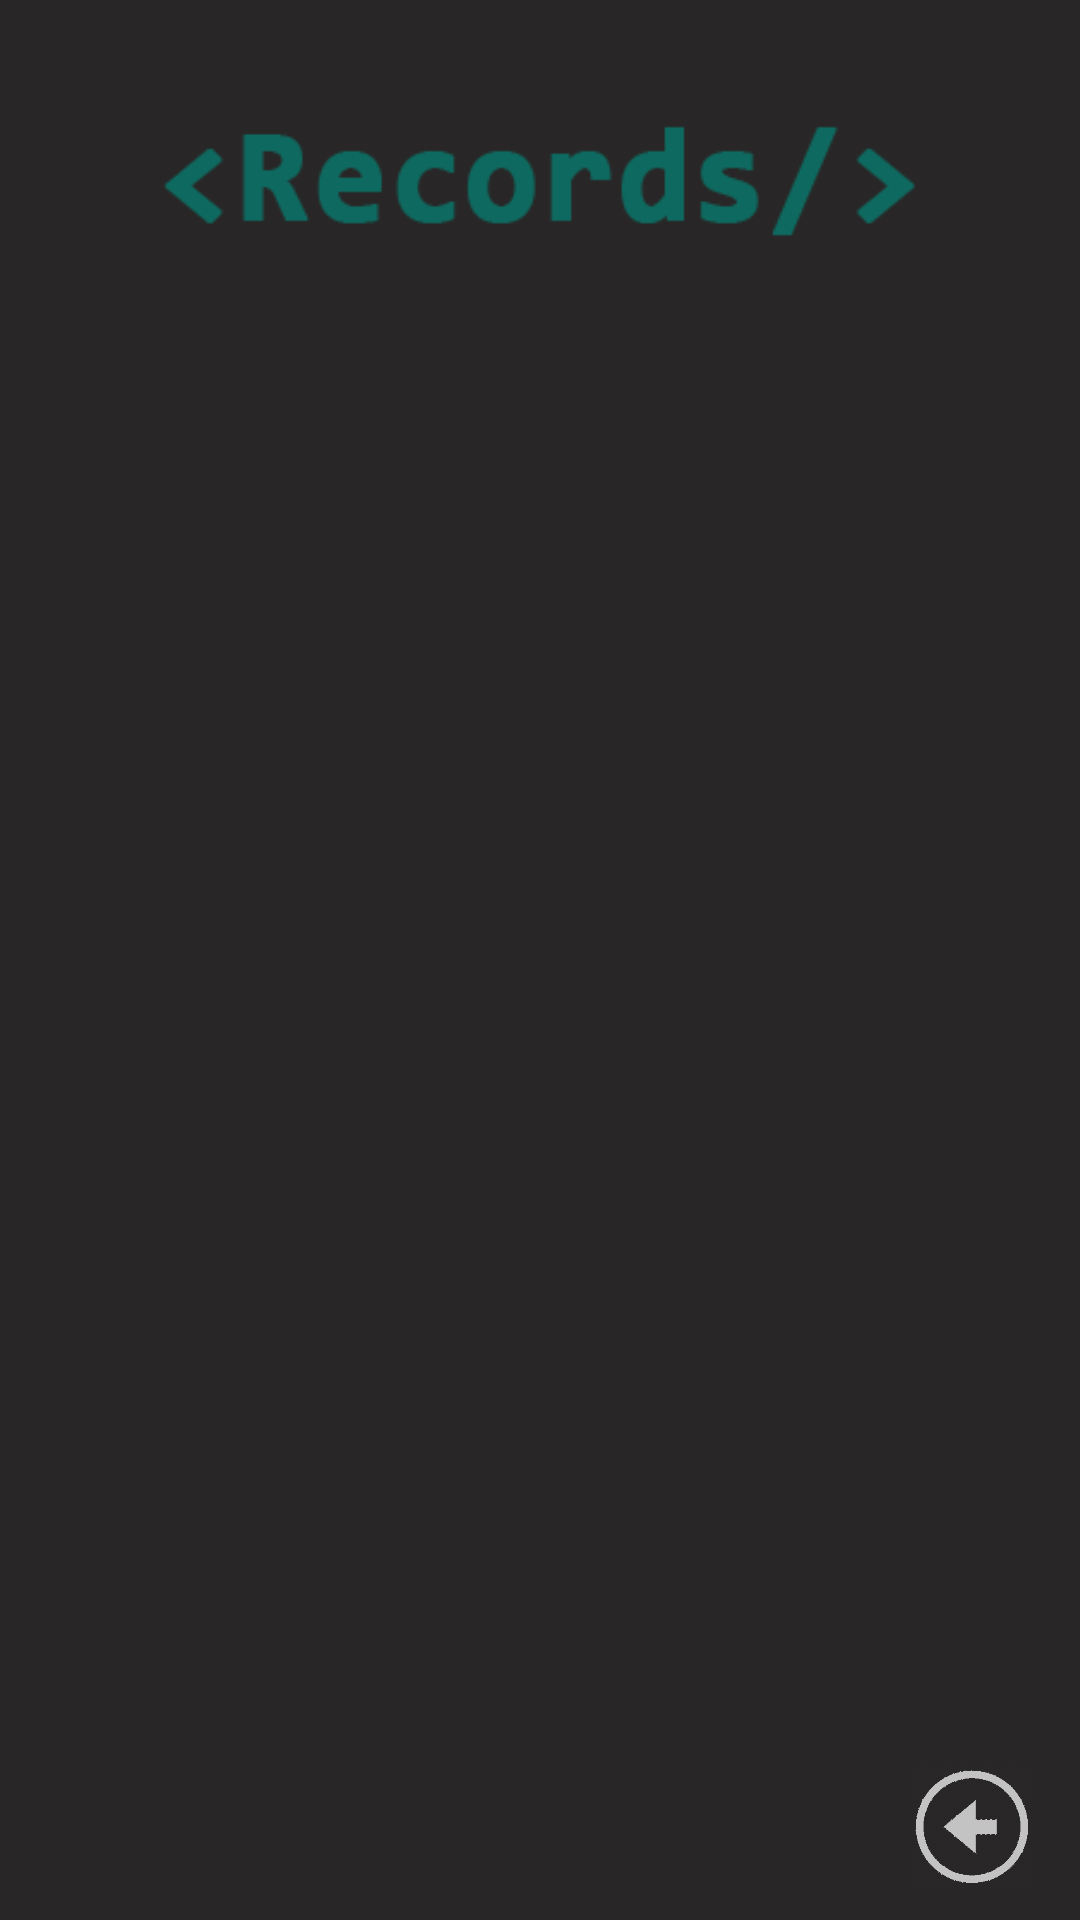

Point at icon controls on the screen. Image size 1080*1920, points as point (x, y).
back: point (971, 1826)
